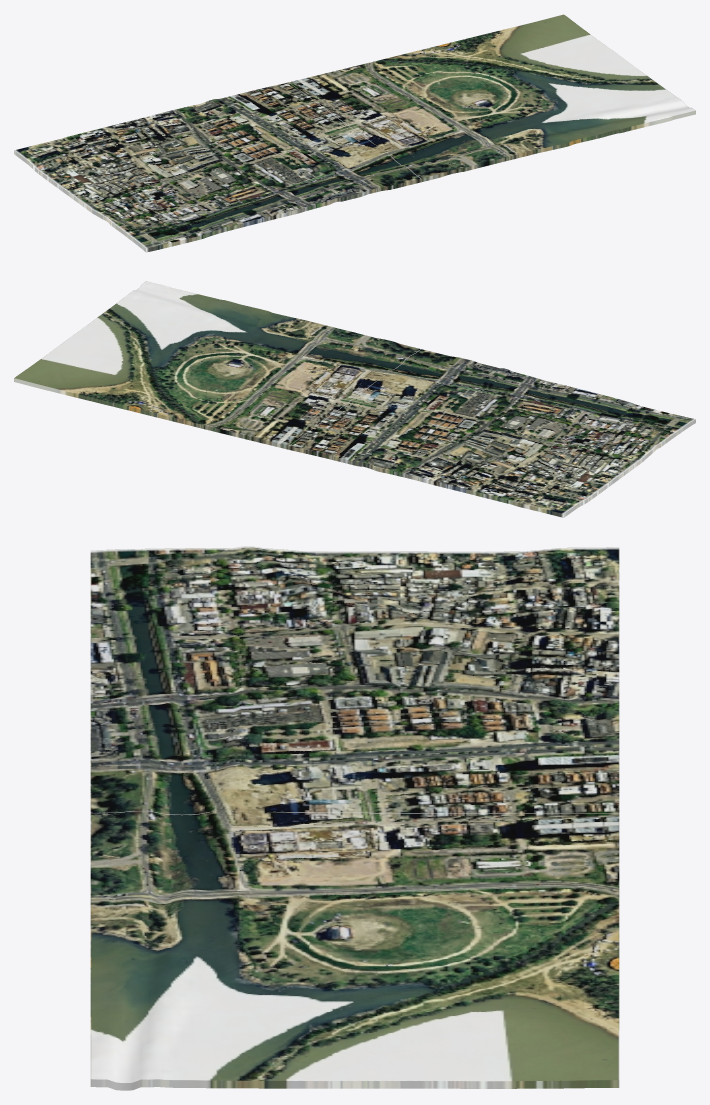
The model's file is novo1.obj.
The picture shows the model from 3 angles, top to bottom: view 1: azimuth 30°, elevation 25°; view 2: azimuth 150°, elevation 25°; view 3: azimuth 270°, elevation 25°; orthographic projection. The views are drawn at different scales.
Visible parts, largest first — view 1: novo1_L0_X0_Y0_subtile.osg_TerrainTile_MatrixTransform__Geo.000, novo1_L0_X0_Y0_subtile.osg_TerrainTile_MatrixTransform__Geometr; view 2: novo1_L0_X0_Y0_subtile.osg_TerrainTile_MatrixTransform__Geo.000, novo1_L0_X0_Y0_subtile.osg_TerrainTile_MatrixTransform__Geometr; view 3: novo1_L0_X0_Y0_subtile.osg_TerrainTile_MatrixTransform__Geometr, novo1_L0_X0_Y0_subtile.osg_TerrainTile_MatrixTransform__Geo.000.
Boxes of the visible parts, x1,y1,x2,y2 form: novo1_L0_X0_Y0_subtile.osg_TerrainTile_MatrixTransform__Geo.000: [14, 82, 420, 252]; novo1_L0_X0_Y0_subtile.osg_TerrainTile_MatrixTransform__Geometr: [289, 14, 695, 182]; novo1_L0_X0_Y0_subtile.osg_TerrainTile_MatrixTransform__Geo.000: [289, 349, 695, 517]; novo1_L0_X0_Y0_subtile.osg_TerrainTile_MatrixTransform__Geometr: [14, 281, 420, 449]; novo1_L0_X0_Y0_subtile.osg_TerrainTile_MatrixTransform__Geometr: [90, 811, 619, 1090]; novo1_L0_X0_Y0_subtile.osg_TerrainTile_MatrixTransform__Geo.000: [90, 546, 619, 814].
Bounding box in the file's own units: 1341 × 19.47 × 558.
2 materials, 2 textured.
